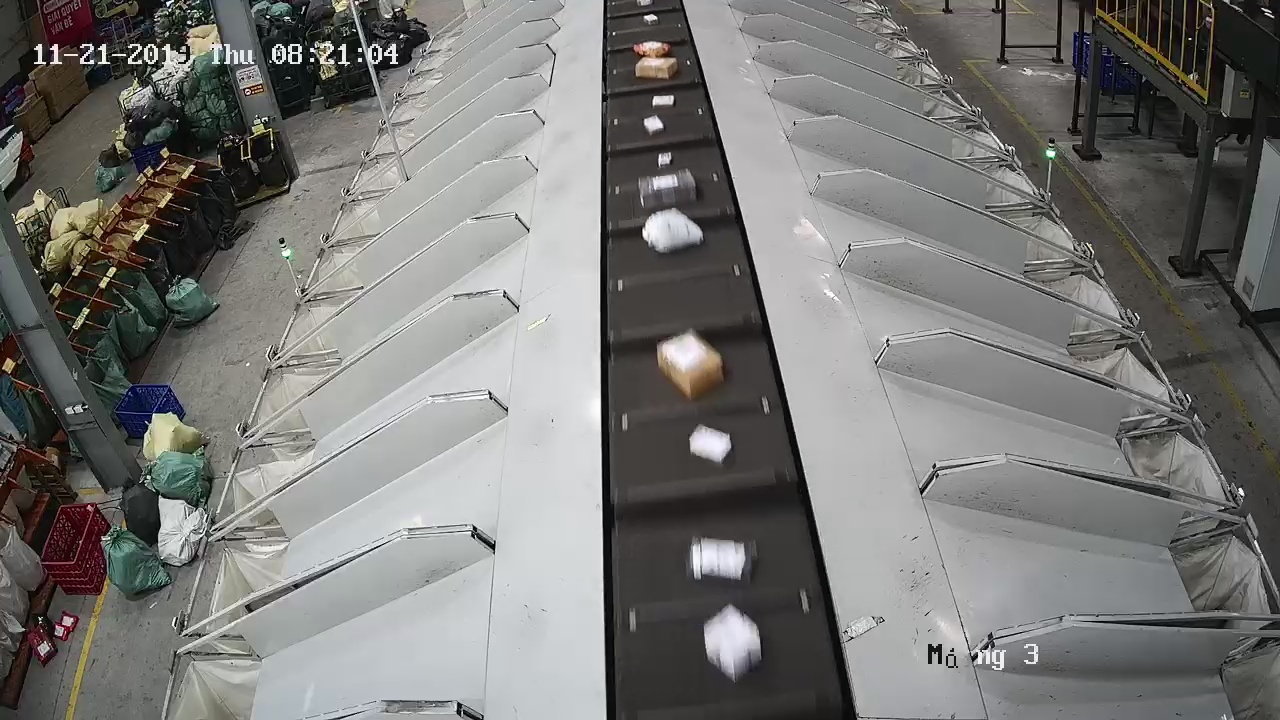parcel: (654, 322, 728, 402), (702, 600, 767, 686), (685, 533, 758, 587), (686, 420, 737, 471)
